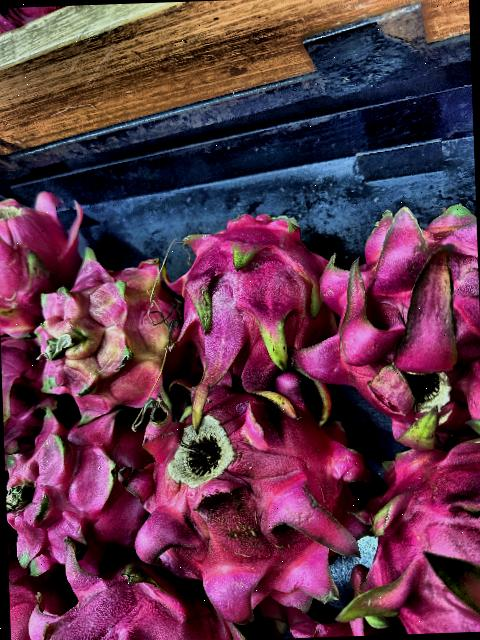buah-naga-belum-matang: (39, 252, 190, 417)
buah-naga-matang: (109, 378, 375, 612), (316, 196, 480, 440), (171, 208, 332, 394), (346, 422, 480, 636), (4, 400, 158, 577), (24, 541, 231, 640), (0, 189, 81, 325), (1, 326, 70, 450)
